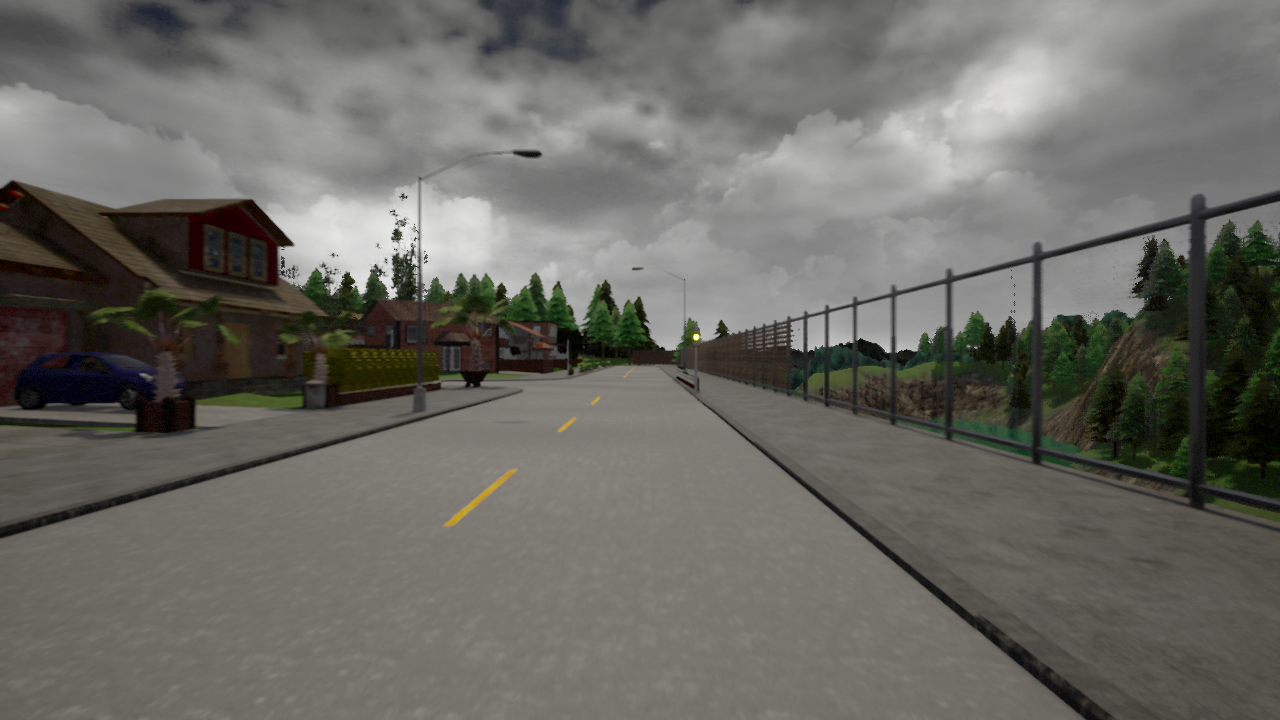yellow: (691, 326, 701, 348)
